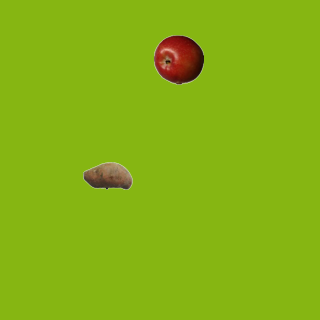Apple Braeburn: (153, 34, 203, 84)
Potato Sweet: (82, 150, 132, 200)
